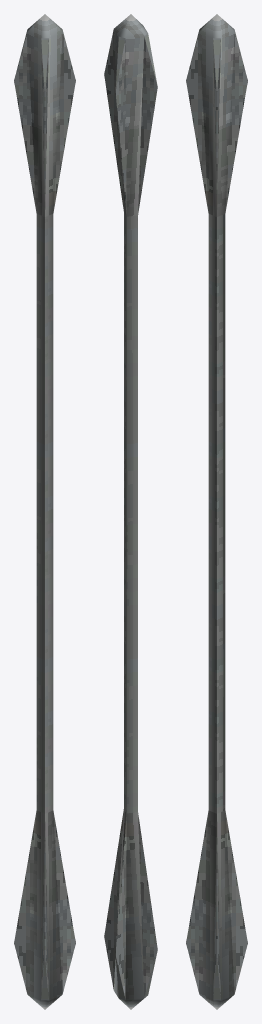
Rendered from wp_mle_lance_kaminoan_greatstaff_l2.fbx.
3 views of the same model, side by side, from view 1: azimuth 90°, elevation 25°; view 2: azimuth 150°, elevation 25°; view 3: azimuth 270°, elevation 25° (orthographic).
Visible parts, largest first — view 1: mesh_node; view 2: mesh_node; view 3: mesh_node.
Part boxes in pixels (x1,y1,x2,y2): mesh_node: (14,14,75,1009); mesh_node: (104,14,157,1009); mesh_node: (186,14,247,1009).
Size of the model in its own units: 0.0841 by 1.49 by 0.0841.
